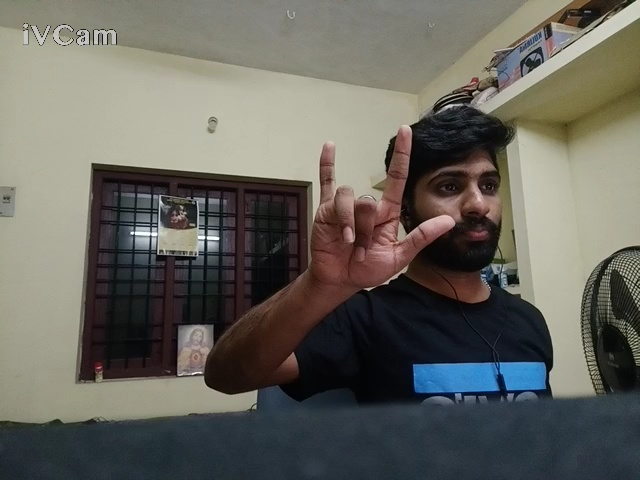I Love You: (254, 117, 457, 320)
